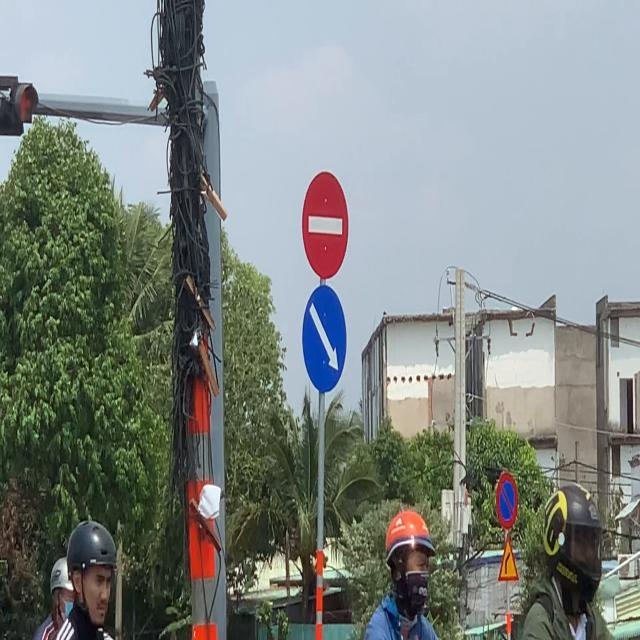Cam do: (496, 473, 518, 532)
Cam nguoc chieu: (299, 164, 351, 284)
Hieu lenh: (299, 280, 350, 403)
Nguy hiem: (496, 532, 520, 586)
